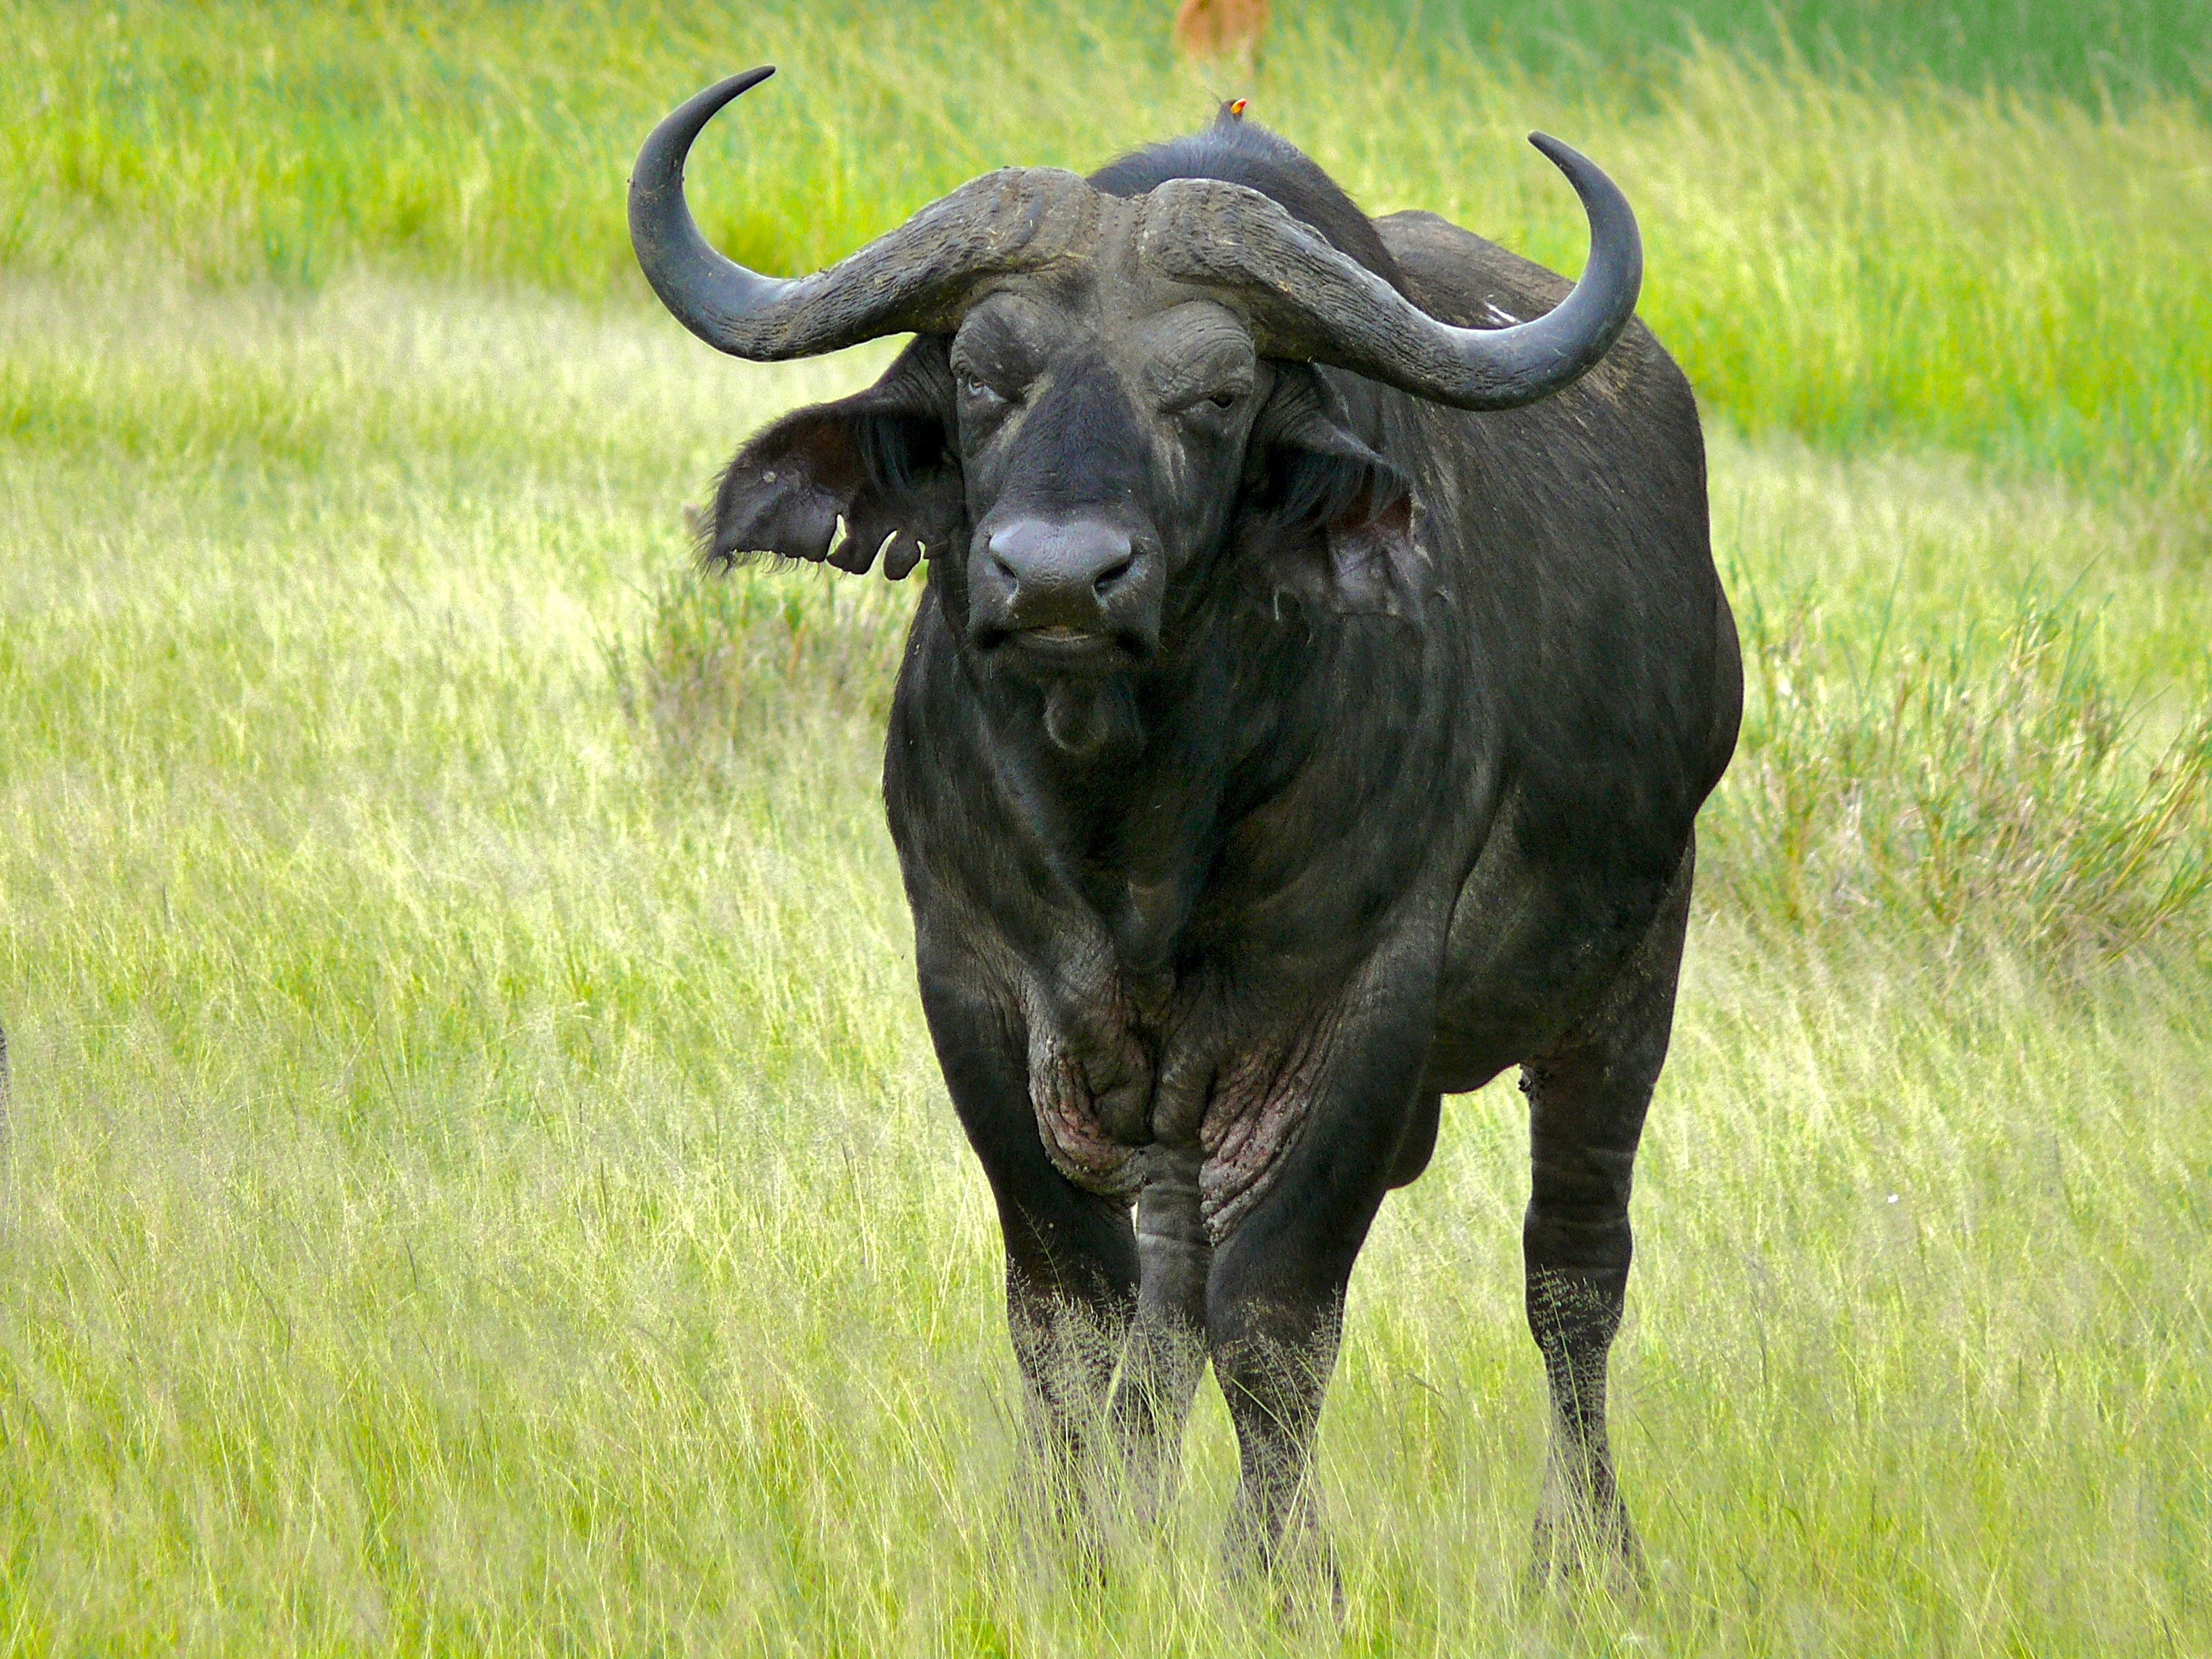buffalo: (615, 54, 1750, 1581)
